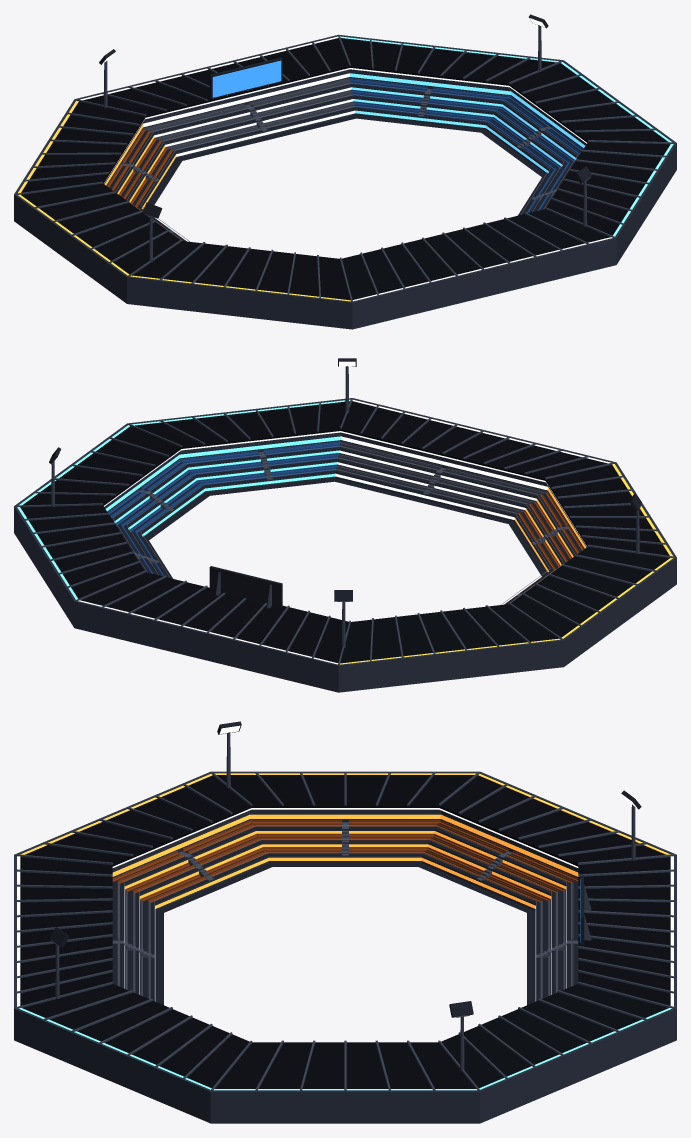
File: arena.glb
3 views of the same model, one above another, from view 1: azimuth 30°, elevation 25°; view 2: azimuth 150°, elevation 25°; view 3: azimuth 270°, elevation 25° (orthographic). The views are drawn at different scales.
Visible parts, largest first — view 1: stadium, tower; view 2: stadium, tower; view 3: stadium, tower.
Part boxes in pixels (bbox=[...]): stadium: bbox=[14, 34, 676, 329]; tower: bbox=[99, 14, 591, 262]; stadium: bbox=[14, 398, 676, 692]; tower: bbox=[49, 358, 641, 647]; stadium: bbox=[14, 771, 676, 1123]; tower: bbox=[49, 721, 641, 1071].
Size of the model in its own units: 129 by 19.41 by 113.
